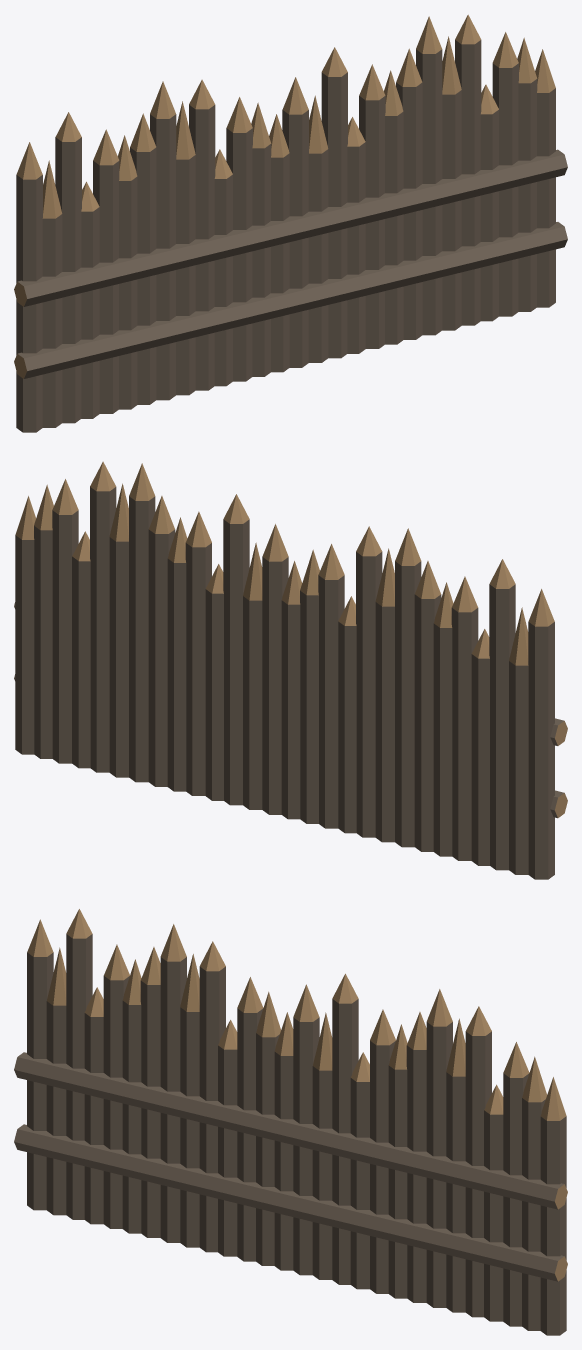
File: army_wood_wall_03.glb
The picture shows the model from 3 angles, top to bottom: view 1: azimuth 30°, elevation 25°; view 2: azimuth 150°, elevation 25°; view 3: azimuth 330°, elevation 25°; orthographic projection.
Visible parts, largest first — view 1: pCylinder606; view 2: pCylinder606; view 3: pCylinder606.
Part boxes in pixels (x1,y1,x2,y2): pCylinder606: (14,14,567,432); pCylinder606: (14,461,567,879); pCylinder606: (14,909,567,1335).
Bounding box in the file's own units: 8.03 × 4.46 × 0.4776.
